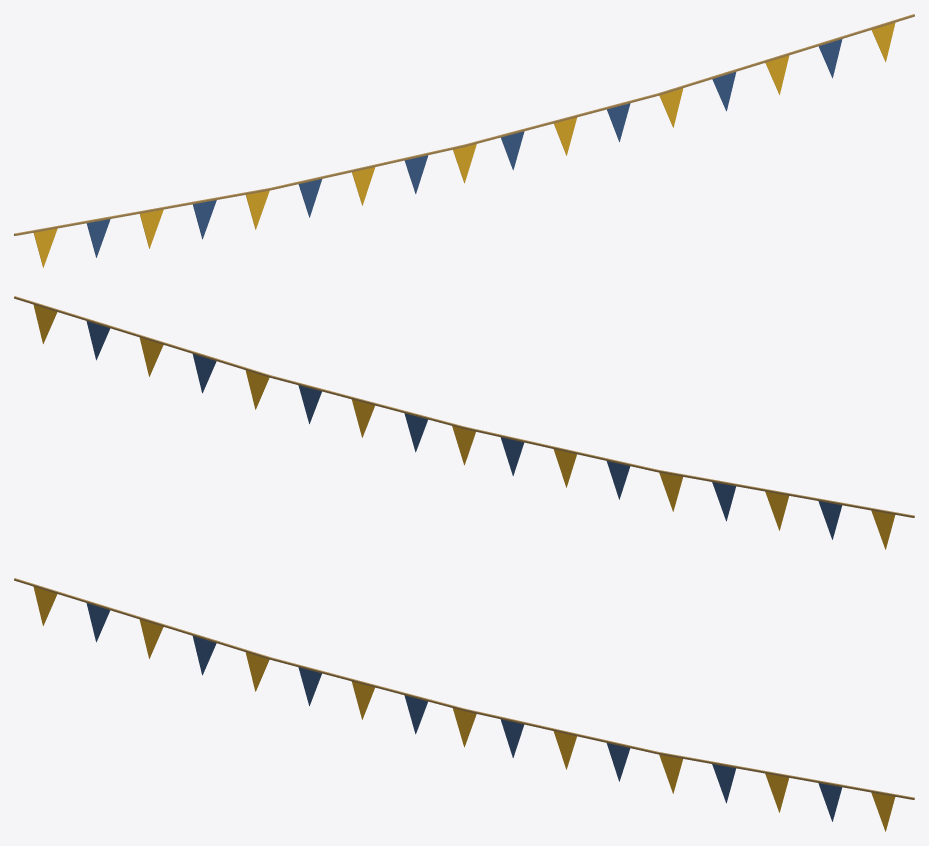
Rendered from Flags_01.fbx.
3 views of the same model, one above another, from view 1: azimuth 30°, elevation 25°; view 2: azimuth 150°, elevation 25°; view 3: azimuth 330°, elevation 25° (orthographic).
Parts seen in each view (by area): view 1: Flags_01; view 2: Flags_01; view 3: Flags_01.
Boxes of the visible parts, x1,y1,x2,y2 form: Flags_01: (14,14,914,267); Flags_01: (14,296,914,549); Flags_01: (14,578,914,831).
Bounding box in the file's own units: 798 × 50.15 × 1.5.
